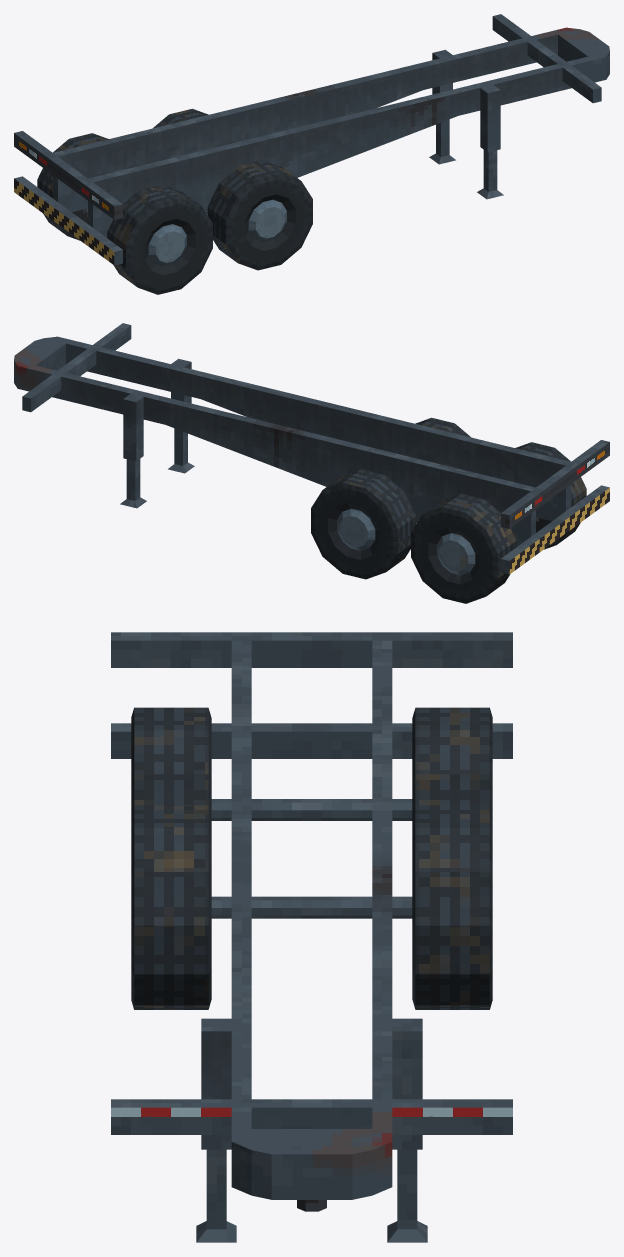
The model's file is ContainerTrailer.gltf.
3 views of the same model, one above another, from view 1: azimuth 30°, elevation 25°; view 2: azimuth 150°, elevation 25°; view 3: azimuth 270°, elevation 25° (orthographic). The views are drawn at different scales.
Parts seen in each view (by area): view 1: MainBody, Wheel (×4), Stand (×2); view 2: MainBody, Wheel (×4), Stand (×2); view 3: MainBody, Wheel (×4), Stand (×2).
Part boxes in pixels (bbox=[...]): MainBody: bbox=[14, 14, 609, 265]; Wheel (×4): bbox=[37, 108, 312, 294]; Stand (×2): bbox=[429, 119, 503, 199]; MainBody: bbox=[14, 323, 609, 574]; Wheel (×4): bbox=[311, 417, 586, 603]; Stand (×2): bbox=[120, 428, 194, 508]; MainBody: bbox=[111, 632, 512, 1199]; Wheel (×4): bbox=[131, 707, 492, 1009]; Stand (×2): bbox=[196, 1149, 427, 1242].
Bounding box in the file's own units: 7.69 × 1.44 × 2.5.
Materials: 1 (1 with a texture image).
